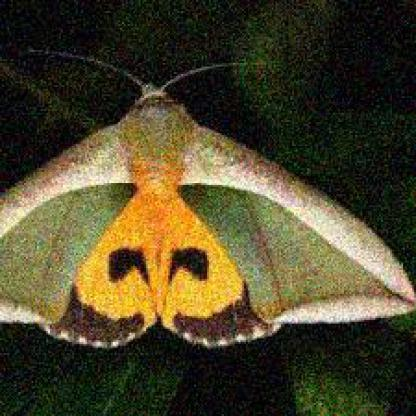fruit sucking moth: (3, 89, 413, 348)
